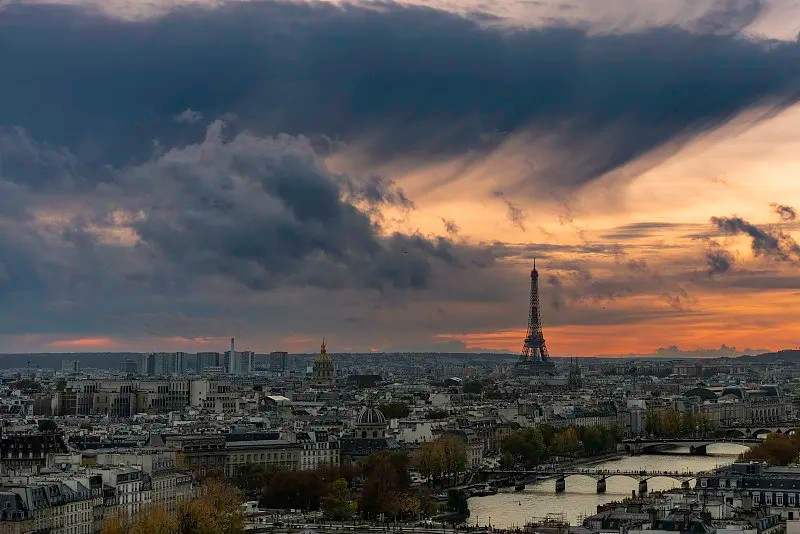Eiffel: (514, 257, 556, 374)
